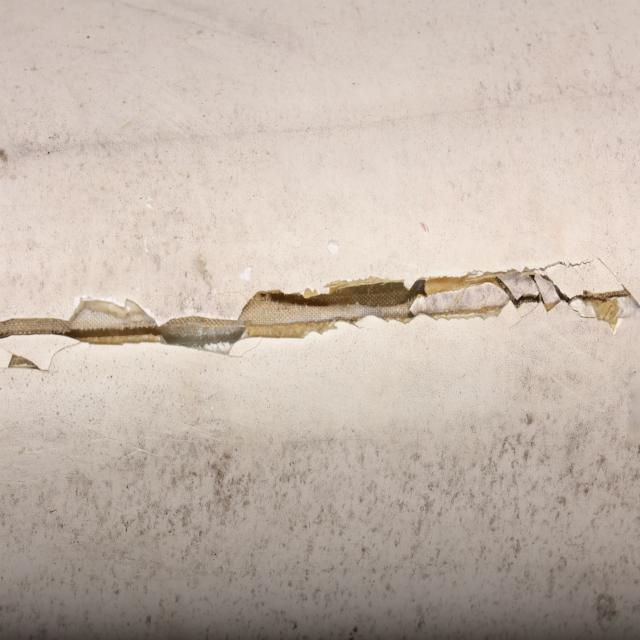Crack: (9, 268, 621, 401)
